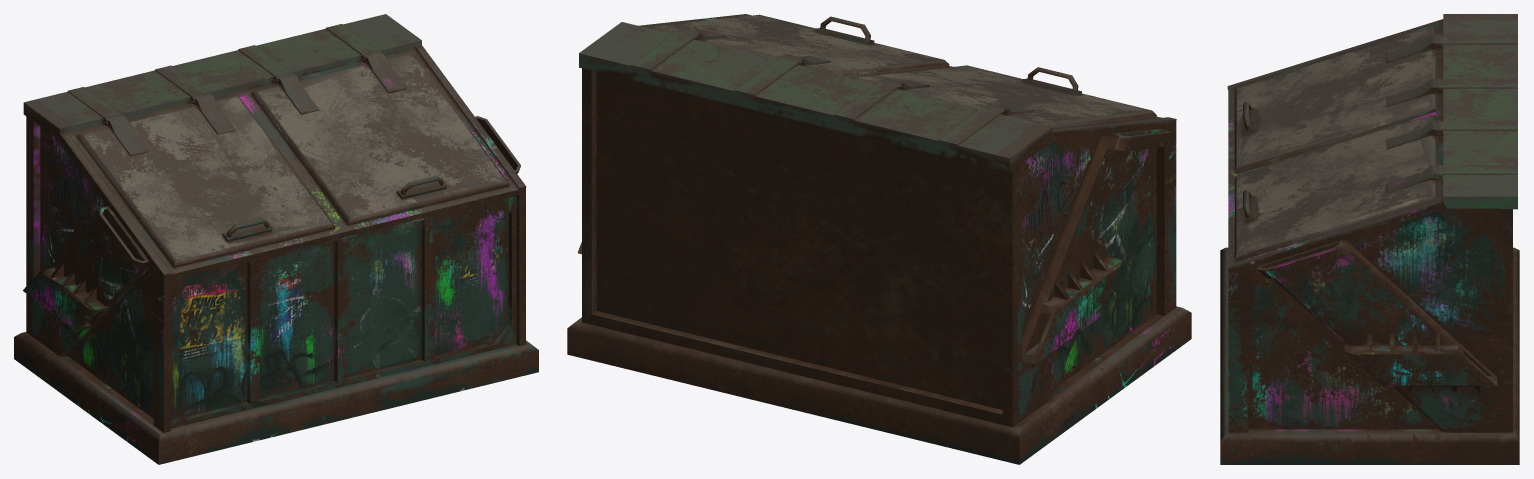
3 views of the same model, side by side, from view 1: azimuth 30°, elevation 25°; view 2: azimuth 150°, elevation 25°; view 3: azimuth 270°, elevation 25° (orthographic). The views are drawn at different scales.
Visible parts, largest first — view 1: Mesh1__0; view 2: Mesh1__0; view 3: Mesh1__0.
Boxes of the visible parts, x1,y1,x2,y2 form: Mesh1__0: [14, 14, 538, 464]; Mesh1__0: [567, 14, 1191, 464]; Mesh1__0: [1220, 14, 1519, 464].
Size of the model in its own units: 2.06 by 1.3 by 1.33.
Materials: 1 (1 with a texture image).
